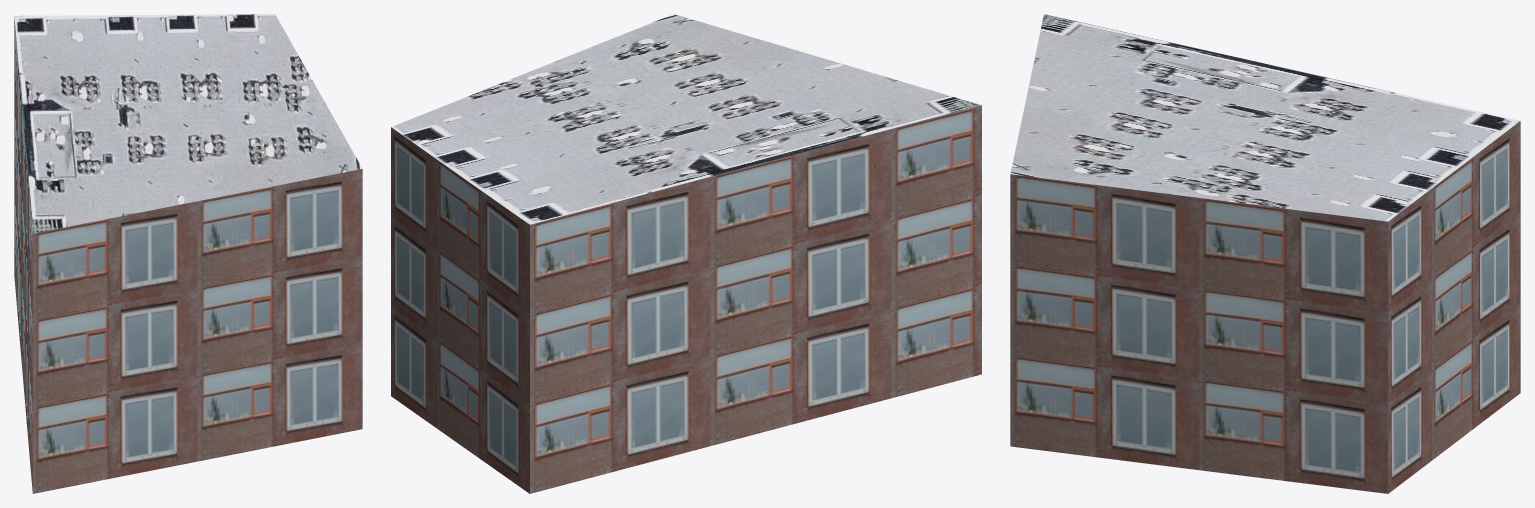
File: ResTex__4055.fbx
The picture shows the model from 3 angles, left to right: view 1: azimuth 30°, elevation 25°; view 2: azimuth 150°, elevation 25°; view 3: azimuth 270°, elevation 25°; orthographic projection. The views are drawn at different scales.
Parts seen in each view (by area): view 1: CityEngineMaterial_19_m, CityEngineMaterial_15_m; view 2: CityEngineMaterial_19_m, CityEngineMaterial_15_m; view 3: CityEngineMaterial_19_m, CityEngineMaterial_15_m.
Boxes of the visible parts, bbox=[...] form: CityEngineMaterial_19_m: bbox=[14, 17, 362, 493]; CityEngineMaterial_15_m: bbox=[14, 14, 362, 233]; CityEngineMaterial_19_m: bbox=[391, 105, 981, 493]; CityEngineMaterial_15_m: bbox=[391, 14, 981, 224]; CityEngineMaterial_19_m: bbox=[1010, 121, 1520, 493]; CityEngineMaterial_15_m: bbox=[1010, 14, 1519, 221].
Size of the model in its own units: 14.72 by 9 by 15.28.
2 materials, 2 textured.
